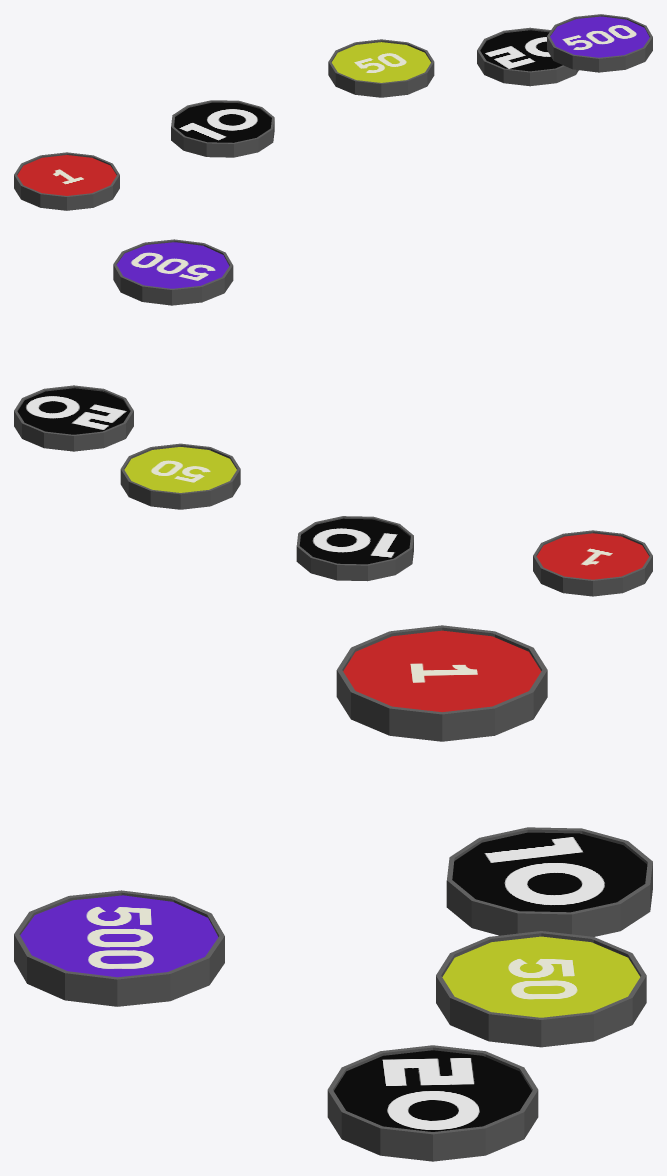
File: coins001.fbx
3 renders of one model, top to bottom at view 1: azimuth 30°, elevation 25°; view 2: azimuth 150°, elevation 25°; view 3: azimuth 270°, elevation 25°, orthographic. The views are drawn at different scales.
Parts seen in each view (by area): view 1: 500coin, 10coin, 1coin, 50coin, 100coin, magnetpart3, magnetpart1, magnetpart5, magnetpart2, magnetpart4; view 2: 500coin, 10coin, 100coin, 1coin, 50coin, magnetpart3, magnetpart1, magnetpart5, magnetpart4, magnetpart2; view 3: 500coin, 100coin, 10coin, 1coin, 50coin, magnetpart3, magnetpart1, magnetpart4, magnetpart5, magnetpart2.
Part boxes in pixels (x1,y1,x2,y2): 500coin: (550,16,649,57); 10coin: (174,102,271,142); 1coin: (17,155,116,195); 50coin: (332,42,430,82); 100coin: (480,30,562,71); magnetpart3: (328,39,434,97); magnetpart1: (14,152,119,210); magnetpart5: (547,14,652,72); magnetpart2: (171,100,274,157); magnetpart4: (477,27,578,86); 500coin: (116,242,229,288); 10coin: (299,518,410,564); 100coin: (17,388,130,434); 1coin: (536,533,649,579); 50coin: (124,447,236,492); magnetpart3: (120,443,240,509); magnetpart1: (533,530,652,596); magnetpart5: (113,239,233,305); magnetpart4: (14,385,133,451); magnetpart2: (296,516,413,581); 500coin: (20,895,218,977); 100coin: (334,1050,531,1131); 10coin: (452,832,647,912); 1coin: (343,630,541,712); 50coin: (442,936,639,1017); magnetpart3: (436,931,646,1047); magnetpart1: (336,625,547,741); magnetpart4: (327,1045,538,1161); magnetpart5: (14,890,224,1006); magnetpart2: (446,827,652,936).
Size of the model in its own units: 83.72 by 16.33 by 42.13.
